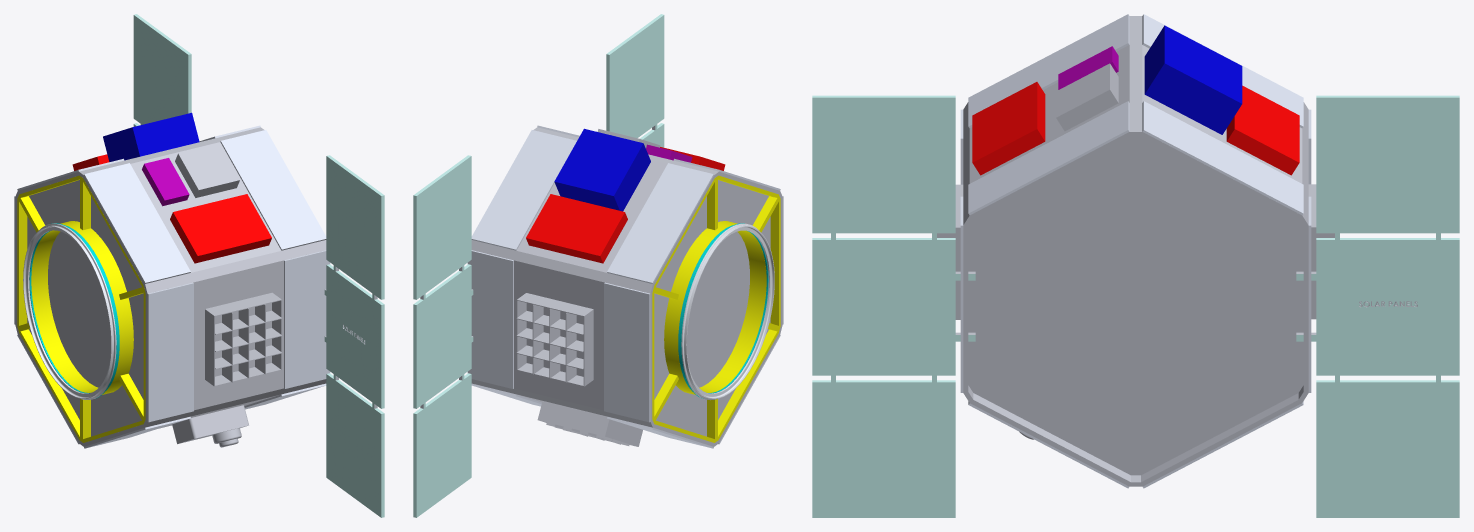
3 renders of one model, left to right at view 1: azimuth 30°, elevation 25°; view 2: azimuth 150°, elevation 25°; view 3: azimuth 270°, elevation 25°, orthographic. The views are drawn at different scales.
Visible parts, largest first — view 1: Simplified_M4V_parasolid1.sldprt; view 2: Simplified_M4V_parasolid1.sldprt; view 3: Simplified_M4V_parasolid1.sldprt.
Part boxes in pixels (x1=…): Simplified_M4V_parasolid1.sldprt: x1=14, y1=14, x2=384, y2=517; Simplified_M4V_parasolid1.sldprt: x1=413, y1=14, x2=783, y2=517; Simplified_M4V_parasolid1.sldprt: x1=812, y1=14, x2=1459, y2=517.
Bounding box in the file's own units: 1.19 × 1.86 × 2.6.
